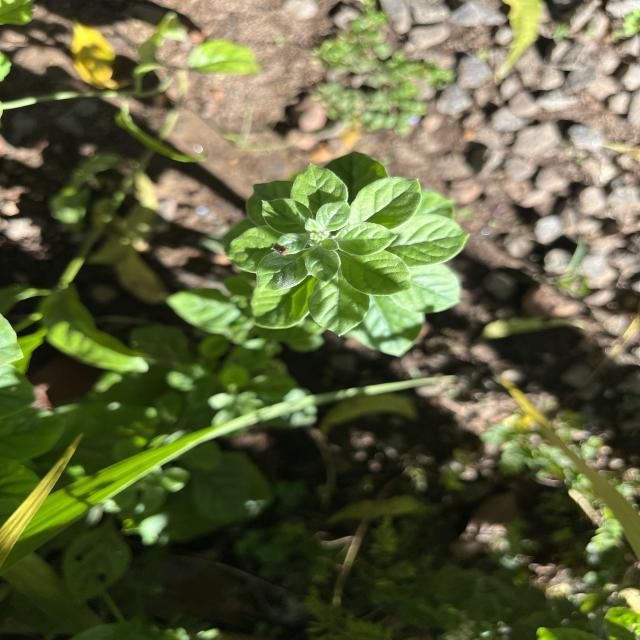Aerva lanata: (346, 175, 424, 232), (340, 250, 416, 298), (288, 160, 350, 208), (253, 247, 309, 294), (334, 220, 401, 257), (257, 195, 311, 237), (303, 243, 341, 284)
